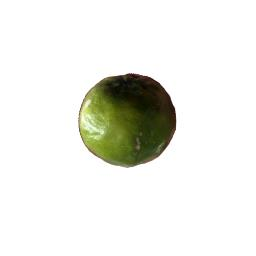Unripe: (78, 74, 175, 168)
